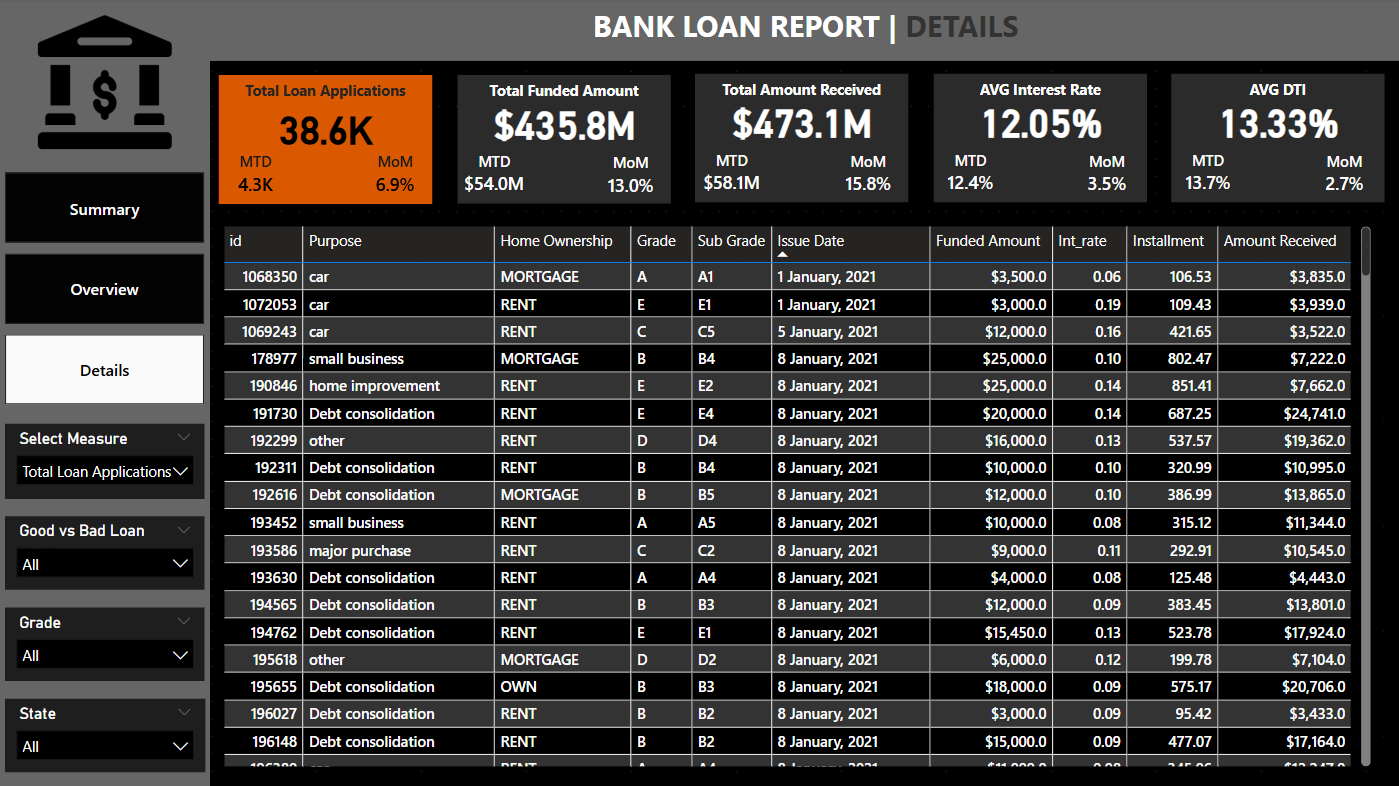

What the dashboard file says about the page in this screenshot:
{"tool":"powerbi","page":{"name":"Details","canvas":[1280,720],"ordinal":2},"visuals":[{"type":"shape","box":[0,0,1280,55.7],"z":0},{"type":"shape","box":[635.9,67.5,195,117.5],"z":0,"group":"g3"},{"type":"shape","box":[853.7,67.5,195,117.5],"z":0,"group":"g4"},{"type":"shape","box":[1071.5,67.5,195,117.5],"z":0,"group":"g5"},{"type":"shape","box":[200.8,68.2,195.3,118],"z":0,"group":"g2"},{"type":"shape","box":[418.7,68.5,195,117.5],"z":0,"group":"g1"},{"type":"shape","box":[0,54.5,192,666.1],"z":1000},{"type":"card","title":"MTD","fields":{"Values":["Measures (2).MTD Amount Received"]},"box":[636.5,137.5,64.7,46.3],"z":1000,"group":"g3"},{"type":"card","title":"MTD","fields":{"Values":["Measures (2).MTD Interest Rate"]},"box":[854.3,137.5,64.7,46.3],"z":1000,"group":"g4"},{"type":"card","title":"MTD","fields":{"Values":["Measures (2).MTD AVG DTI"]},"box":[1072.1,137.5,64.7,46.3],"z":1000,"group":"g5"},{"type":"card","title":"MTD","fields":{"Values":["Measures (2).MTD Loan Applications"]},"box":[202,138.2,64.7,46.7],"z":1000,"group":"g2"},{"type":"card","title":"MTD","fields":{"Values":["Measures (2).MTD Funded Amount"]},"box":[419.3,138.5,64.7,46.3],"z":1000,"group":"g1"},{"type":"textbox","box":[537.5,0,447.5,55],"z":2000},{"type":"card","fields":{"Values":["Measures (2).Total Amount Received"]},"box":[635.4,88.3,196.3,44.7],"z":2000,"group":"g3"},{"type":"card","fields":{"Values":["Measures (2).AVG Interest Rate"]},"box":[853.2,88.3,196.3,44.7],"z":2000,"group":"g4"},{"type":"card","fields":{"Values":["Measures (2).AVG DTI"]},"box":[1071,88.3,196.3,44.7],"z":2000,"group":"g5"},{"type":"card","fields":{"Values":["Measures (2).Total Funded Amount"]},"box":[418.2,89.3,196.3,44.7],"z":2000,"group":"g1"},{"type":"card","fields":{"Values":["Measures (2).Total Loan Applications"]},"box":[200.6,92.2,196,48.7],"z":2000,"group":"g2"},{"type":"textbox","box":[635.4,67.8,194.7,27.4],"z":3000,"group":"g3"},{"type":"textbox","box":[853.2,67.8,194.7,27.4],"z":3000,"group":"g4"},{"type":"textbox","box":[1071,67.8,194.7,27.4],"z":3000,"group":"g5"},{"type":"textbox","box":[199.3,68.2,196.7,27.3],"z":3000,"group":"g2"},{"type":"group","id":"g1","title":"Group 1","box":[418.2,68.5,195.6,117.8],"z":3000},{"type":"textbox","box":[418.2,68.8,194.7,27.4],"z":3000,"group":"g1"},{"type":"group","id":"g2","title":"Group 2","box":[199.3,68.2,197.3,118],"z":4000},{"type":"card","title":"MoM","fields":{"Values":["Measures (2).MOM Amount Received"]},"box":[760.7,138,65.3,46.3],"z":4000,"group":"g3"},{"type":"card","title":"MoM","fields":{"Values":["Measures (2).MOM AVG Int Rate"]},"box":[978.5,138,65.3,46.3],"z":4000,"group":"g4"},{"type":"card","title":"MoM","fields":{"Values":["Measures (2).MOM AVG DTI"]},"box":[1196.3,138,65.3,46.3],"z":4000,"group":"g5"},{"type":"card","title":"MoM","fields":{"Values":["Measures (2).MOM Loan Application"]},"box":[330,138.2,64,46.7],"z":4000,"group":"g2"},{"type":"card","title":"MoM","fields":{"Values":["Measures (2).MOM Funded Amount"]},"box":[543.5,139,65.3,46.3],"z":4000,"group":"g1"},{"type":"group","id":"g3","title":"Group 1","box":[635.4,67.5,196.2,118.8],"z":5000},{"type":"group","id":"g4","title":"Group 1","box":[853.2,67.5,196.2,118.8],"z":6000},{"type":"group","id":"g5","title":"Group 1","box":[1071,67.5,196.2,118.8],"z":7000},{"type":"slicer","fields":{"Values":["bank_loan_data.address_state"]},"box":[4.4,638.9,182.9,67.4],"z":8000},{"type":"slicer","fields":{"Values":["bank_loan_data.grade"]},"box":[4.6,555.7,182.5,67.5],"z":9000},{"type":"slicer","fields":{"Values":["bank_loan_data.Good vs Bad Loans"]},"box":[4.6,472.4,182.5,67.5],"z":10000},{"type":"slicer","fields":{"Values":["Select Measure.Select Measure"]},"box":[4.6,388,182.5,68.8],"z":11000},{"type":"tableEx","fields":{"Values":["bank_loan_data.id","bank_loan_data.purpose","bank_loan_data.home_ownership","bank_loan_data.grade","bank_loan_data.sub_grade","bank_loan_data.issue_date","Measures (2).Total Funded Amount","Sum(bank_loan_data.int_rate)","Sum(bank_loan_data.installment)","Measures (2).Total Amount Received"]},"box":[199.1,202.7,1059.6,503.7],"z":12000},{"type":"image","box":[11.9,9.1,168,132.6],"z":13000},{"type":"pageNavigator","box":[4.4,157.4,182.9,214.9],"z":14000}]}

Visuals, with their boxes in screenshot pixels (x1, y1, x2, y2), scaled from the page's 1280x720 canvas onto the 1399x786 screenshot:
shape: region(0, 0, 1398, 61)
shape: region(695, 74, 908, 202)
shape: region(933, 74, 1146, 202)
shape: region(1171, 74, 1384, 202)
shape: region(219, 74, 433, 203)
shape: region(458, 75, 671, 203)
shape: region(0, 59, 210, 785)
"MTD" card: region(696, 150, 766, 201)
"MTD" card: region(934, 150, 1004, 201)
"MTD" card: region(1172, 150, 1242, 201)
"MTD" card: region(221, 151, 291, 202)
"MTD" card: region(458, 151, 529, 202)
textbox: region(587, 0, 1077, 60)
card - Measures (2).Total Amount Received: region(694, 96, 909, 145)
card - Measures (2).AVG Interest Rate: region(933, 96, 1147, 145)
card - Measures (2).AVG DTI: region(1171, 96, 1385, 145)
card - Measures (2).Total Funded Amount: region(457, 97, 672, 146)
card - Measures (2).Total Loan Applications: region(219, 101, 433, 154)
textbox: region(694, 74, 907, 104)
textbox: region(933, 74, 1145, 104)
textbox: region(1171, 74, 1383, 104)
textbox: region(218, 74, 433, 104)
"Group 1" group: region(457, 75, 671, 203)
textbox: region(457, 75, 670, 105)
"Group 2" group: region(218, 74, 433, 203)
"MoM" card: region(831, 151, 903, 201)
"MoM" card: region(1069, 151, 1141, 201)
"MoM" card: region(1308, 151, 1379, 201)
"MoM" card: region(361, 151, 431, 202)
"MoM" card: region(594, 152, 665, 202)
"Group 1" group: region(694, 74, 909, 203)
"Group 1" group: region(933, 74, 1147, 203)
"Group 1" group: region(1171, 74, 1385, 203)
slicer - bank_loan_data.address_state: region(5, 697, 205, 771)
slicer - bank_loan_data.grade: region(5, 607, 204, 680)
slicer - bank_loan_data.Good vs Bad Loans: region(5, 516, 204, 589)
slicer - Select Measure.Select Measure: region(5, 424, 204, 499)
tableEx - bank_loan_data.id x bank_loan_data.purpose: region(218, 221, 1376, 771)
image: region(13, 10, 197, 155)
pageNavigator: region(5, 172, 205, 406)
